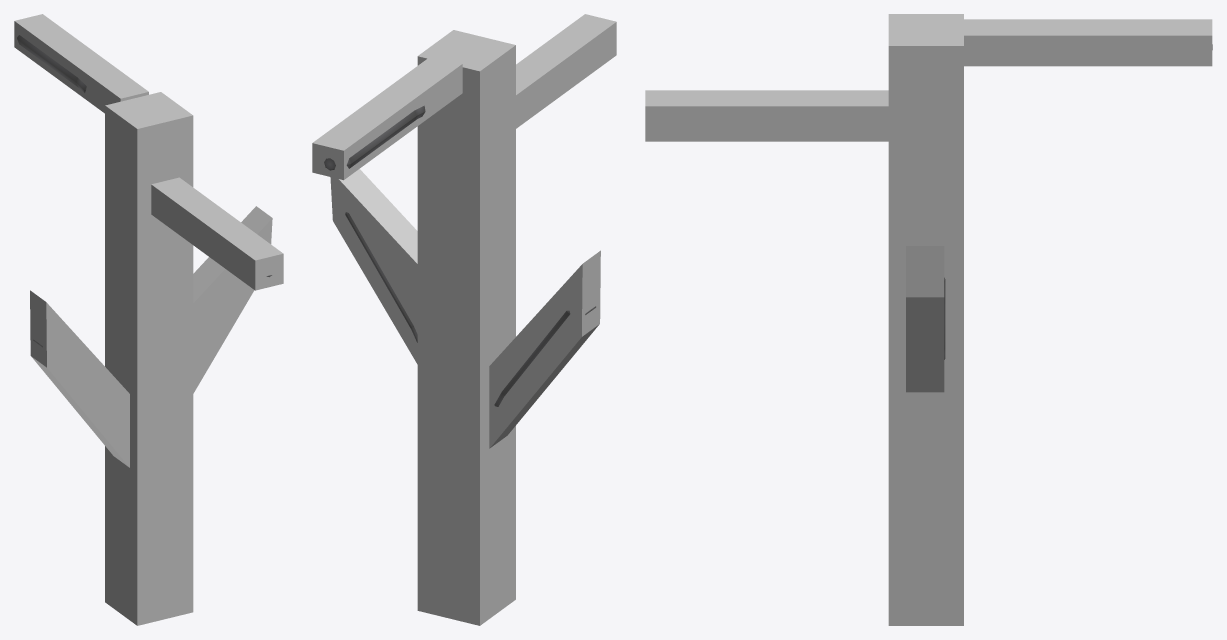
The model's file is SM_RoadLamp_04.fbx.
3 views of the same model, side by side, from view 1: azimuth 30°, elevation 25°; view 2: azimuth 150°, elevation 25°; view 3: azimuth 270°, elevation 25° (orthographic). The views are drawn at different scales.
Visible parts, largest first — view 1: SM_RoadLamp_04_ConvexHulls, SM_RoadLamp_04; view 2: SM_RoadLamp_04_ConvexHulls, SM_RoadLamp_04; view 3: SM_RoadLamp_04_ConvexHulls.
Part boxes in pixels (x1,y1,x2,y2): SM_RoadLamp_04_ConvexHulls: (14,14,283,625); SM_RoadLamp_04: (17,35,271,347); SM_RoadLamp_04_ConvexHulls: (312,14,616,625); SM_RoadLamp_04: (324,105,595,406); SM_RoadLamp_04_ConvexHulls: (645,14,1212,625).
Bounding box in the file's own units: 181 × 336 × 382.
